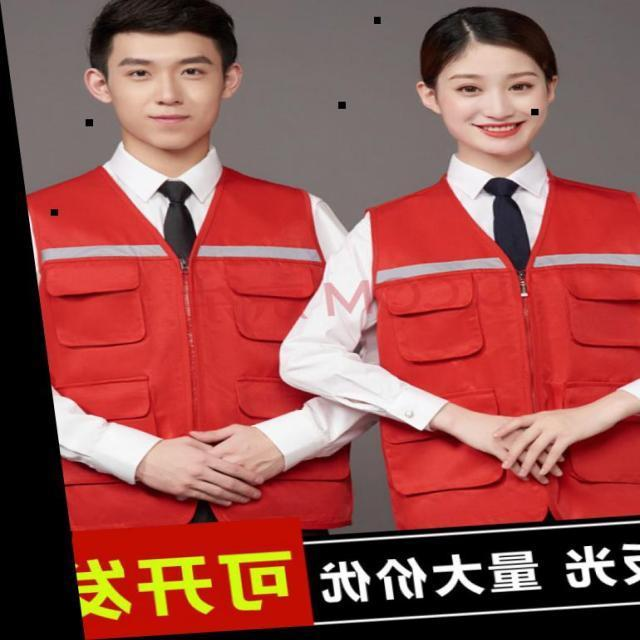safety_helmet: (32, 168, 365, 529)
